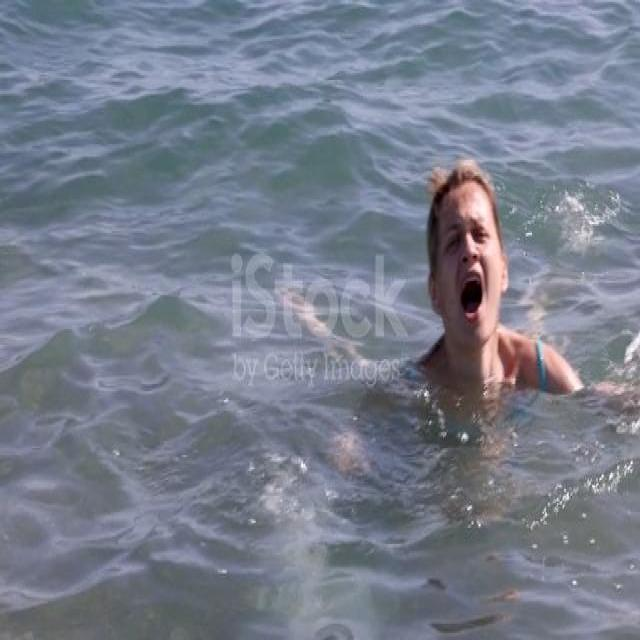Out of Water: (411, 154, 564, 436)
